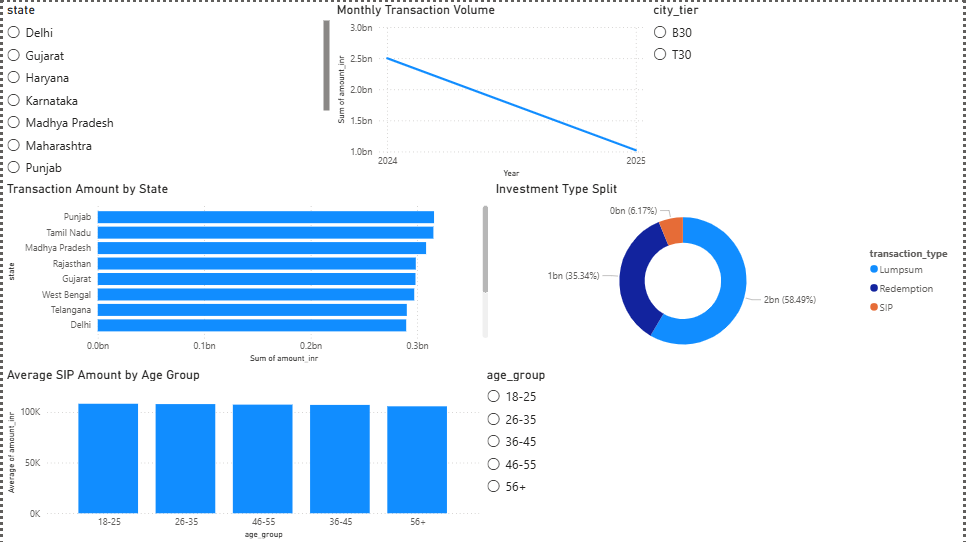

The page's visual inventory and layout, read from the dashboard file:
{"tool":"powerbi","page":{"name":"Investor Analytics","canvas":[1280,720],"ordinal":2},"visuals":[{"type":"clusteredBarChart","title":"Transaction Amount by State","fields":{"Category":["clean_investor_transactions.state"],"Y":["Sum(clean_investor_transactions.amount_inr)"]},"box":[0,238.1,652,247.6],"z":0},{"type":"donutChart","title":"Investment Type Split","fields":{"Category":["clean_investor_transactions.transaction_type"],"Y":["Sum(clean_investor_transactions.amount_inr)"]},"box":[652,238.1,627.4,247.6],"z":1000},{"type":"clusteredColumnChart","title":"Average SIP Amount by Age Group","fields":{"Category":["clean_investor_transactions.age_group"],"Y":["Avg(clean_investor_transactions.amount_inr)"]},"box":[0,485.7,640.6,234.3],"z":2000},{"type":"lineChart","title":"Monthly Transaction Volume","fields":{"Category":["clean_investor_transactions.transaction_date.Variation.Date Hierarchy.Year","clean_investor_transactions.transaction_date.Variation.Date Hierarchy.Month"],"Y":["Sum(clean_investor_transactions.amount_inr)"]},"box":[440.3,0,421.4,238.1],"z":3000},{"type":"listSlicer","fields":{"Values":["clean_investor_transactions.state"]},"box":[0,0,440.3,238.1],"z":4000},{"type":"listSlicer","fields":{"Values":["clean_investor_transactions.age_group"]},"box":[640.6,485.7,638.7,232.4],"z":5000},{"type":"listSlicer","fields":{"Values":["clean_investor_transactions.city_tier"]},"box":[861.7,0,402.5,238.1],"z":6000}]}

Visuals, with their boxes in screenshot pixels (x1, y1, x2, y2), scaled from the page's 1280x720 canvas onto the 966x542 screenshot:
"Transaction Amount by State" clusteredBarChart: (x1=0, y1=179, x2=492, y2=366)
"Investment Type Split" donutChart: (x1=492, y1=179, x2=965, y2=366)
"Average SIP Amount by Age Group" clusteredColumnChart: (x1=0, y1=366, x2=483, y2=541)
"Monthly Transaction Volume" lineChart: (x1=332, y1=0, x2=650, y2=179)
listSlicer - clean_investor_transactions.state: (x1=0, y1=0, x2=332, y2=179)
listSlicer - clean_investor_transactions.age_group: (x1=483, y1=366, x2=965, y2=541)
listSlicer - clean_investor_transactions.city_tier: (x1=650, y1=0, x2=954, y2=179)
